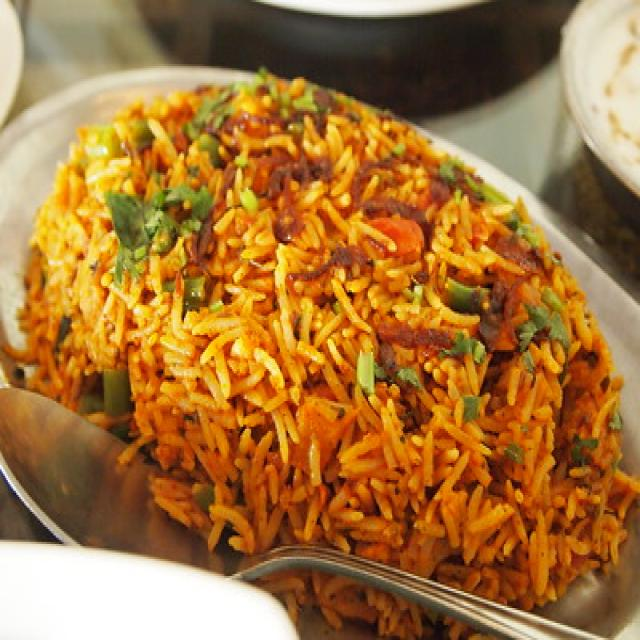Biryani: (26, 138, 618, 536)
